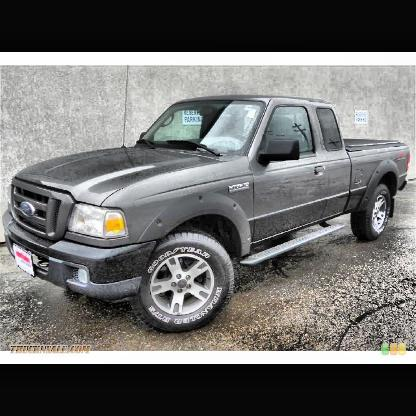Ford Ranger SuperCab 2011: (2, 93, 413, 336)
